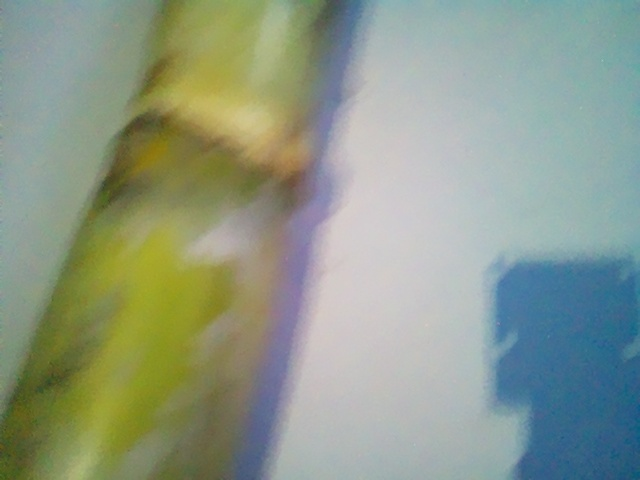Good Sugarcane: (0, 2, 329, 480)
Node: (112, 69, 316, 212)
